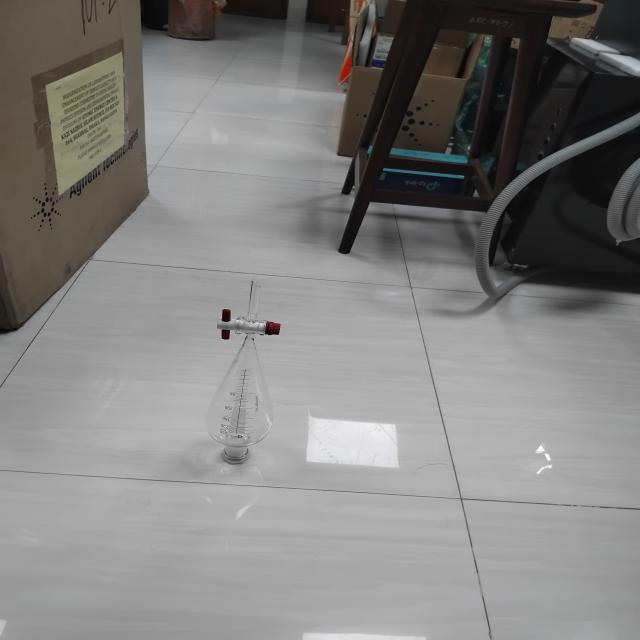Separating_Funnel: (165, 240, 319, 498)
